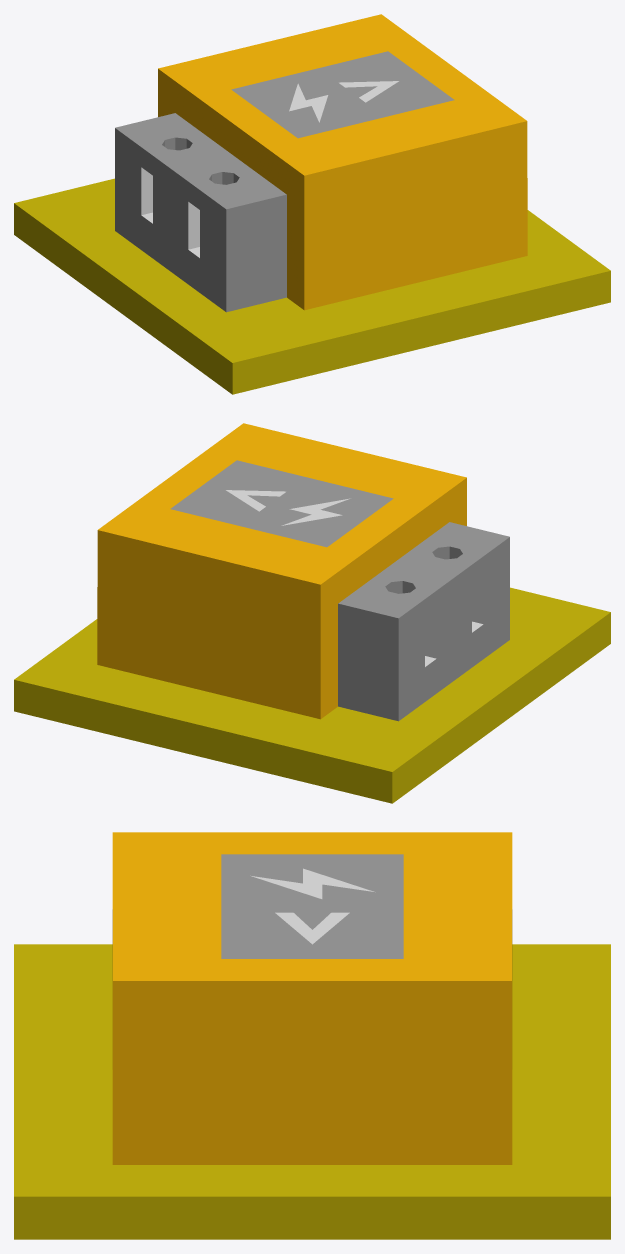
Rendered from epe_electric_sensor_relay.dae.
The picture shows the model from 3 angles, top to bottom: view 1: azimuth 30°, elevation 25°; view 2: azimuth 150°, elevation 25°; view 3: azimuth 270°, elevation 25°; orthographic projection. The views are drawn at different scales.
Visible parts, largest first — view 1: electric_sensor_relay; view 2: electric_sensor_relay; view 3: electric_sensor_relay.
Boxes of the visible parts, left/top/right/bottom form: electric_sensor_relay: left=14, top=14, right=610, bottom=394; electric_sensor_relay: left=14, top=423, right=610, bottom=803; electric_sensor_relay: left=14, top=832, right=610, bottom=1239.
Bounding box in the file's own units: 0.25 × 0.25 × 0.105.
